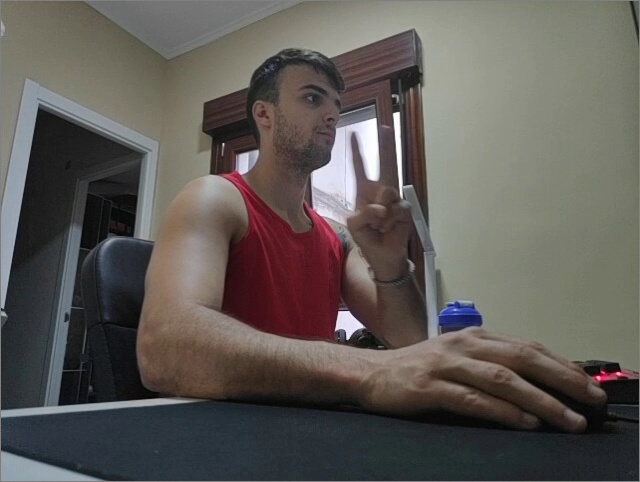Peace: (344, 125, 413, 258)
